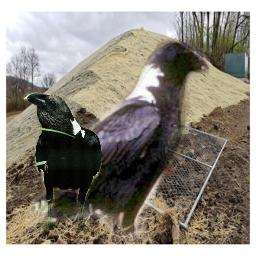Crow: (25, 33, 211, 241), (23, 92, 102, 235)
